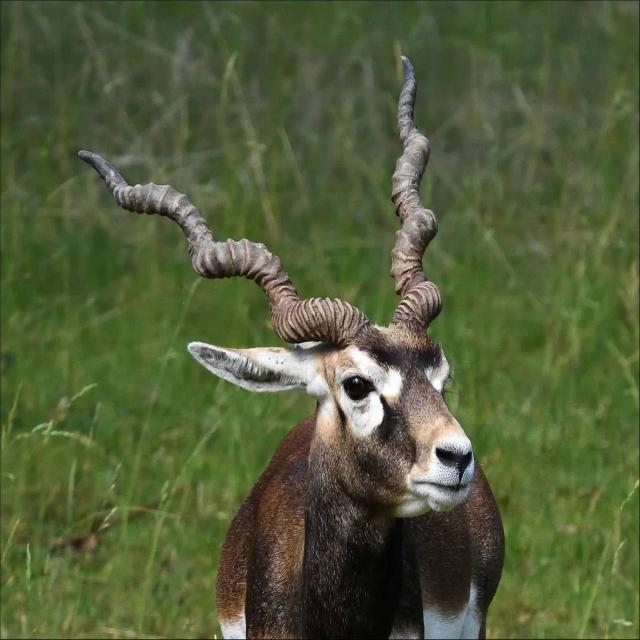Antelope: (79, 52, 507, 640)
